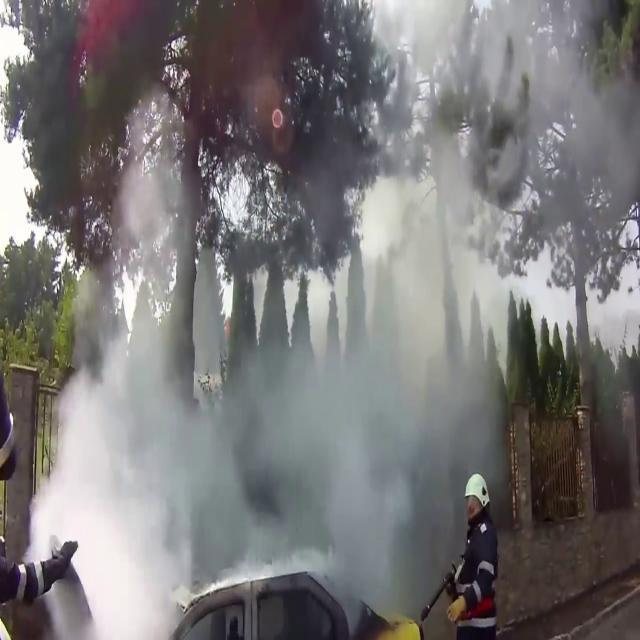Smoke: (13, 8, 533, 640)
